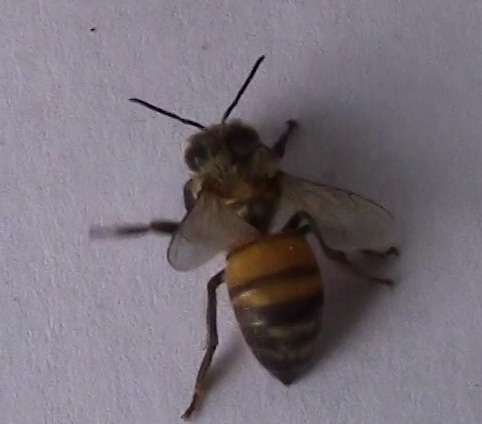Healthy: (82, 42, 411, 424)
